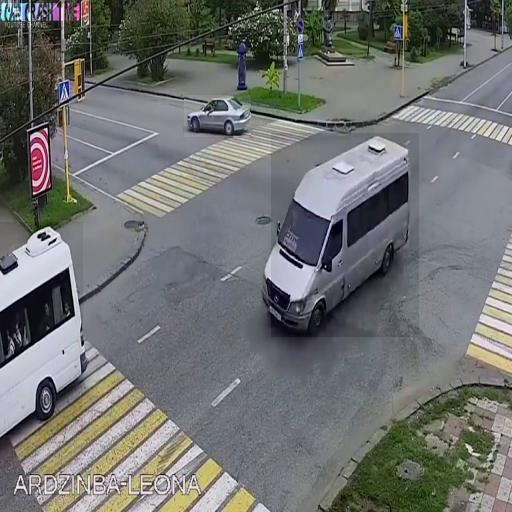小汽车: (271, 133, 419, 337), (0, 222, 83, 435), (184, 96, 251, 138)
